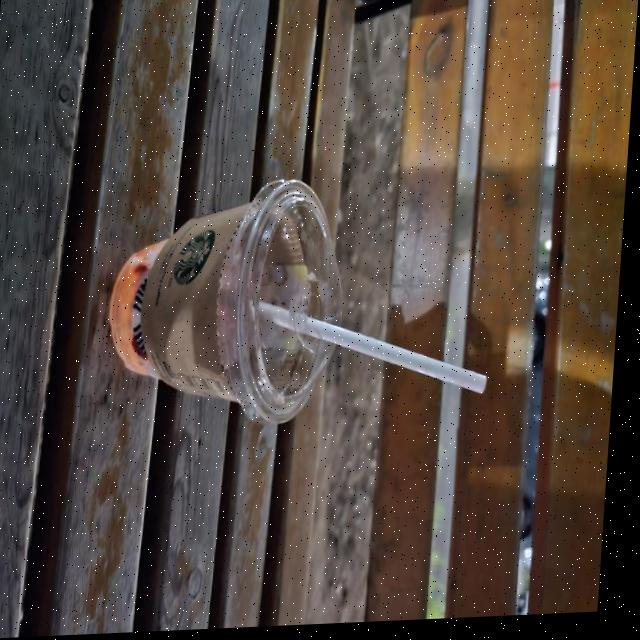cup: (100, 173, 358, 438)
